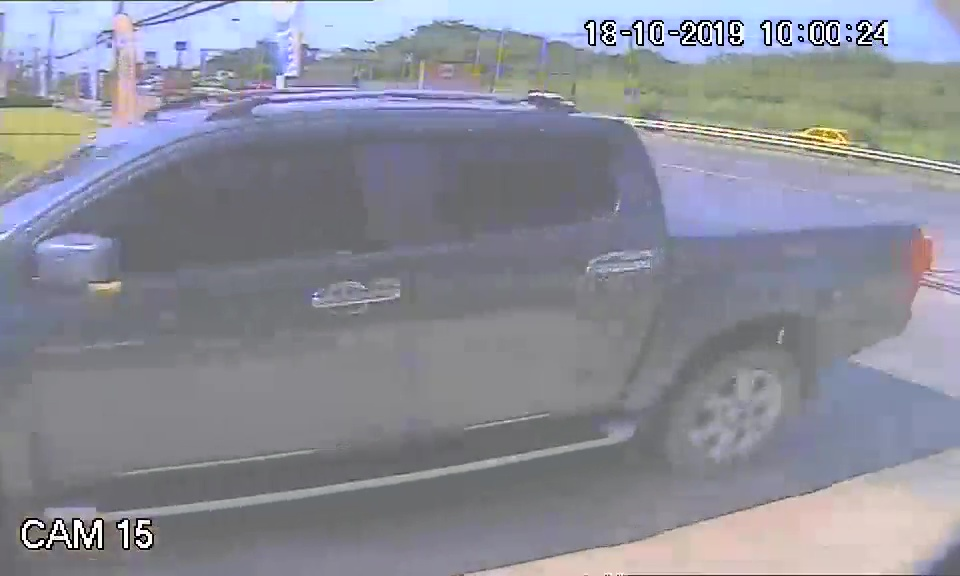pickup: (8, 85, 928, 507)
